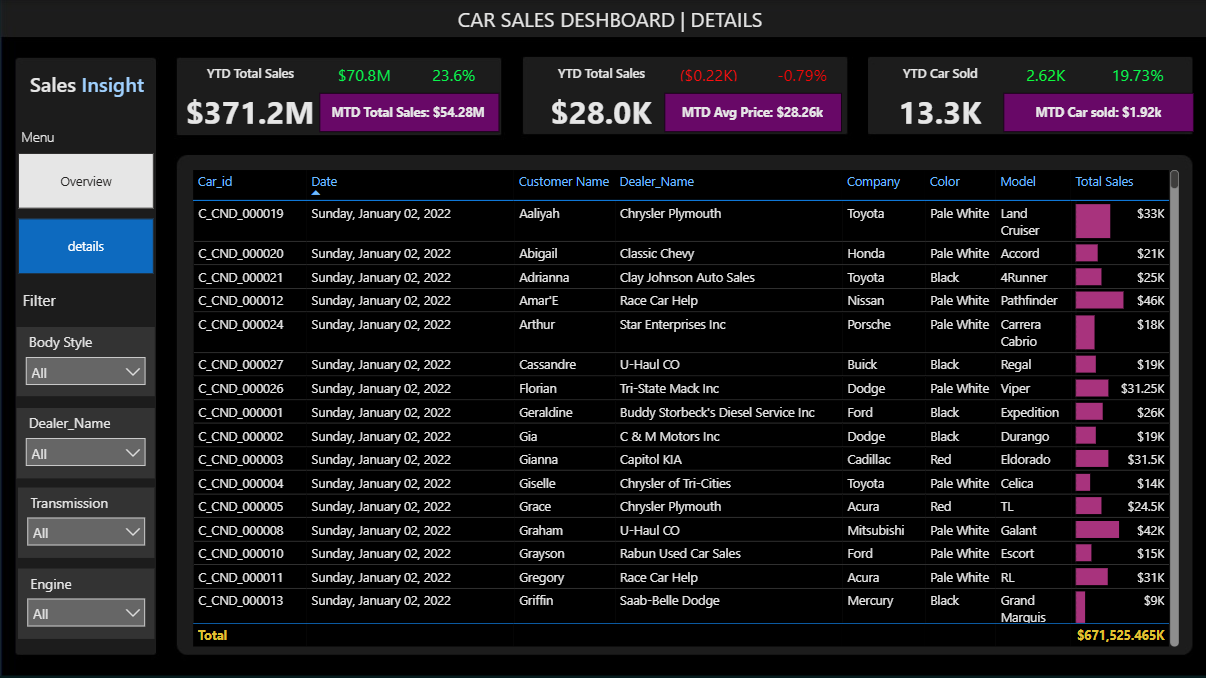

This screenshot's page, from the dashboard's own definition file:
{"tool":"powerbi","page":{"name":"details","canvas":[1280,720],"ordinal":1},"visuals":[{"type":"cardVisual","title":"YTD Total Sales","fields":{"Data":["car_data.ytd total sales"]},"box":[171.8,68.4,189.3,77.9],"z":0},{"type":"cardVisual","fields":{"Data":["car_data.Sales Difference"]},"box":[334,57.3,106.6,41.4],"z":1000},{"type":"cardVisual","fields":{"Data":["car_data.YoY sales growth"]},"box":[434.2,57.3,98.6,41.4],"z":2000},{"type":"cardVisual","fields":{"Data":["car_data.MTD Kpi"]},"box":[338.8,98.6,190.9,41.4],"z":3000},{"type":"cardVisual","title":"YTD Total Sales","fields":{"Data":["car_data.YTD Avg sales"]},"box":[544,68.4,189.3,77.9],"z":4000},{"type":"cardVisual","fields":{"Data":["car_data.Avg sale diff"]},"box":[696.7,57.3,114.5,41.4],"z":5000},{"type":"cardVisual","fields":{"Data":["car_data.YoY avg growth"]},"box":[800.1,57.3,103.4,41.4],"z":6000},{"type":"cardVisual","fields":{"Data":["car_data.MTD avg kpi"]},"box":[704.6,98.6,187.7,41.4],"z":7000},{"type":"cardVisual","title":"YTD Car Sold","fields":{"Data":["car_data.YTD car sold"]},"box":[903.5,68.4,189.3,77.9],"z":8000},{"type":"cardVisual","fields":{"Data":["car_data.Car sold difference"]},"box":[1064.1,57.3,90.7,41.4],"z":9000},{"type":"cardVisual","fields":{"Data":["car_data.YoY card sold growth"]},"box":[1154.8,57.3,111.3,41.4],"z":10000},{"type":"cardVisual","fields":{"Data":["car_data.MTD car sold Kpi"]},"box":[1064.1,98.6,202,41.4],"z":11000},{"type":"textbox","box":[480.4,0,388.1,41.4],"z":17000},{"type":"slicer","fields":{"Values":["car_data.Body Style"]},"box":[17.5,346.8,146.3,73.2],"z":18000},{"type":"slicer","fields":{"Values":["car_data.Dealer_Name"]},"box":[17.5,432.6,146.3,74.8],"z":19000},{"type":"slicer","fields":{"Values":["car_data.Transmission"]},"box":[19.1,516.9,144.7,74.8],"z":20000},{"type":"slicer","fields":{"Values":["car_data.Engine"]},"box":[19.1,602.8,144.7,74.8],"z":21000},{"type":"textbox","box":[19.1,302.2,60.4,33.4],"z":22000},{"type":"tableEx","fields":{"Values":["car_data.Car_id","car_data.Date","car_data.Customer Name","car_data.Dealer_Name","car_data.Company","car_data.Color","car_data.Model","Sum(car_data.Price ($))"]},"box":[198.8,175,1056.2,515.4],"z":22001},{"type":"textbox","box":[17.5,68.4,149.5,41.4],"z":22002},{"type":"textbox","box":[17.5,128.8,65.2,33.4],"z":22003},{"type":"pageNavigator","box":[19.1,162.2,144.7,128.8],"z":22004}]}

Visuals, with their boxes in screenshot pixels (x1, y1, x2, y2), scaled from the page's 1280x720 canvas onto the 1206x678 screenshot:
"YTD Total Sales" cardVisual: box=[162, 64, 340, 138]
cardVisual - car_data.Sales Difference: box=[315, 54, 415, 93]
cardVisual - car_data.YoY sales growth: box=[409, 54, 502, 93]
cardVisual - car_data.MTD Kpi: box=[319, 93, 499, 132]
"YTD Total Sales" cardVisual: box=[513, 64, 691, 138]
cardVisual - car_data.Avg sale diff: box=[656, 54, 764, 93]
cardVisual - car_data.YoY avg growth: box=[754, 54, 851, 93]
cardVisual - car_data.MTD avg kpi: box=[664, 93, 841, 132]
"YTD Car Sold" cardVisual: box=[851, 64, 1030, 138]
cardVisual - car_data.Car sold difference: box=[1003, 54, 1088, 93]
cardVisual - car_data.YoY card sold growth: box=[1088, 54, 1193, 93]
cardVisual - car_data.MTD car sold Kpi: box=[1003, 93, 1193, 132]
textbox: box=[453, 0, 818, 39]
slicer - car_data.Body Style: box=[16, 327, 154, 396]
slicer - car_data.Dealer_Name: box=[16, 407, 154, 478]
slicer - car_data.Transmission: box=[18, 487, 154, 557]
slicer - car_data.Engine: box=[18, 568, 154, 638]
textbox: box=[18, 285, 75, 316]
tableEx - car_data.Car_id x car_data.Date: box=[187, 165, 1182, 650]
textbox: box=[16, 64, 157, 103]
textbox: box=[16, 121, 78, 153]
pageNavigator: box=[18, 153, 154, 274]
